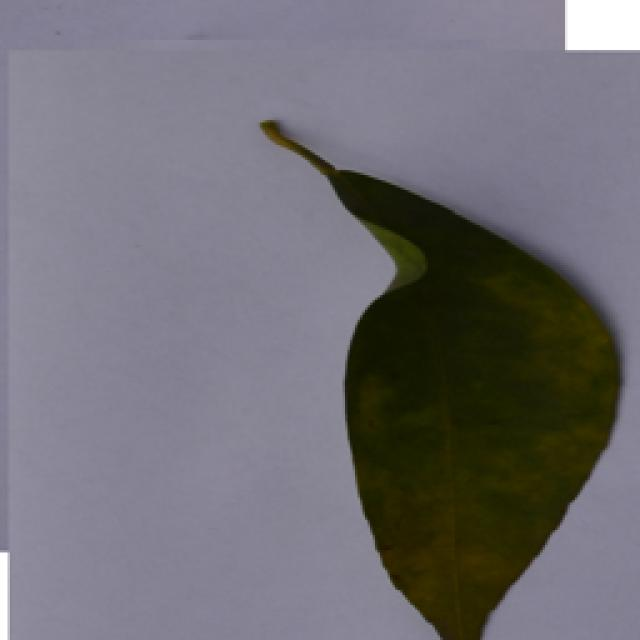greening: (248, 108, 629, 636)
